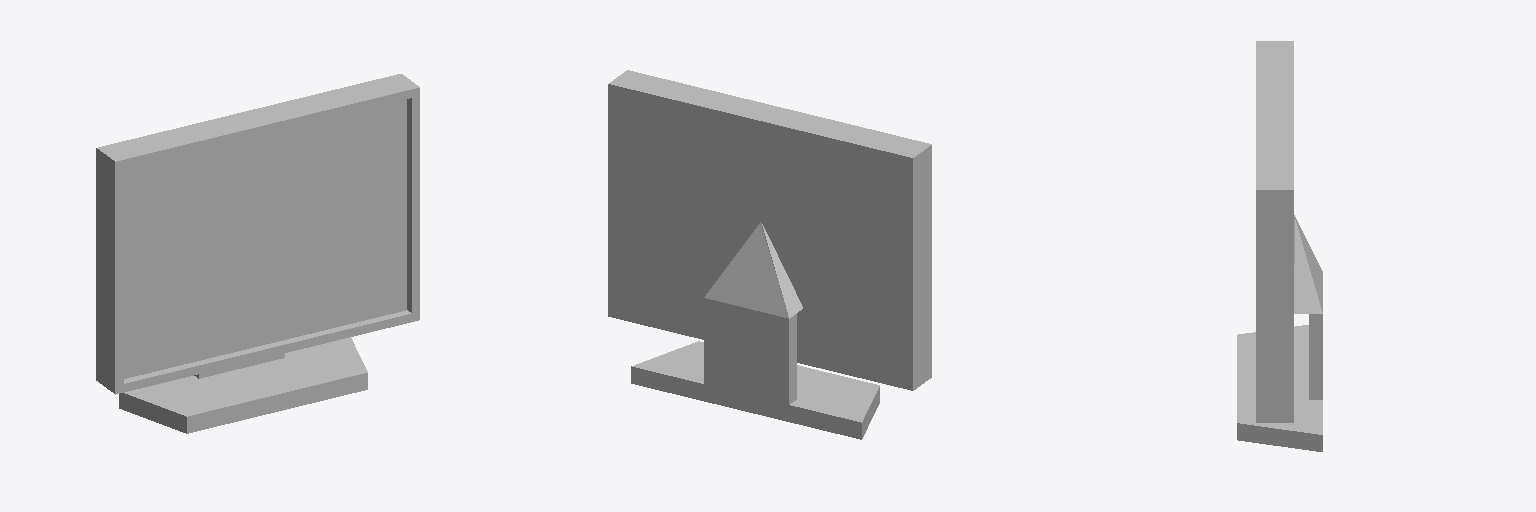
Rendered from MonitorTFT_21.obj.
3 views of the same model, side by side, from view 1: azimuth 30°, elevation 25°; view 2: azimuth 150°, elevation 25°; view 3: azimuth 270°, elevation 25° (orthographic).
Parts seen in each view (by area): view 1: object_3, object_2, object_1; view 2: object_2, object_1, object_4; view 3: object_2, object_1, object_4.
Boxes of the visible parts, x1,y1,x2,y2 form: object_3: [124, 99, 406, 378]; object_2: [96, 74, 419, 394]; object_1: [119, 337, 367, 433]; object_2: [608, 70, 931, 390]; object_1: [631, 298, 879, 439]; object_4: [704, 221, 802, 318]; object_2: [1256, 41, 1293, 422]; object_1: [1237, 314, 1322, 451]; object_4: [1294, 215, 1322, 313].
Bounding box in the file's own units: 37 × 32.5 × 9.